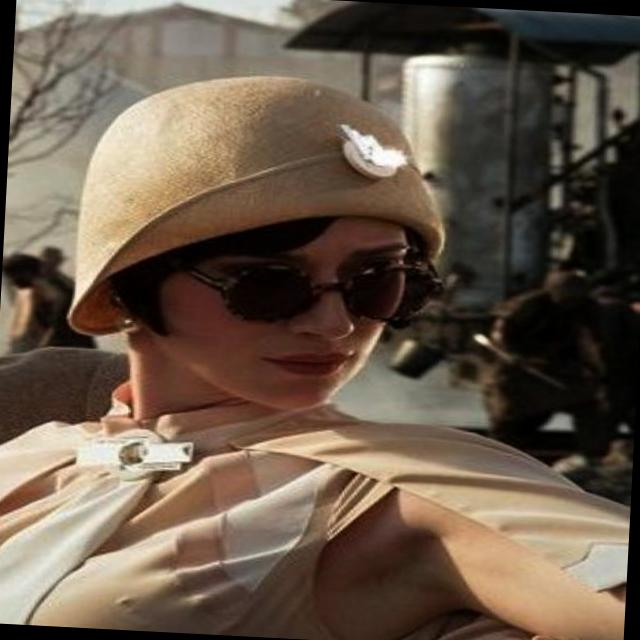glasses: (179, 242, 446, 334)
